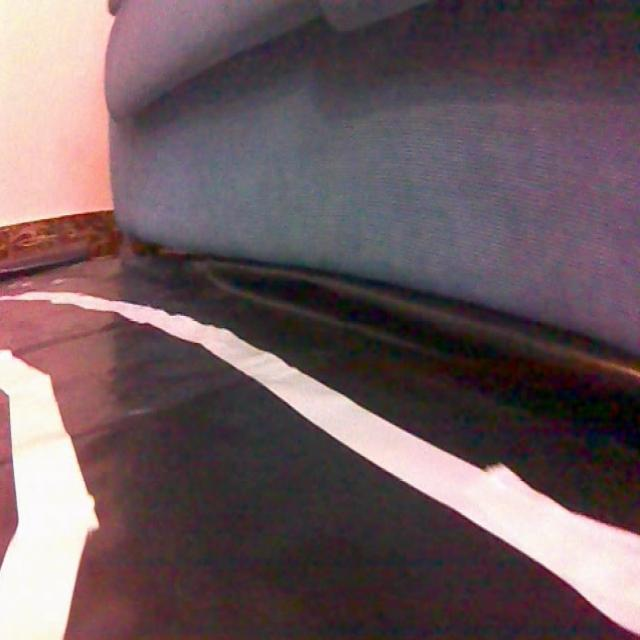LineaCarril: (0, 291, 639, 635), (0, 350, 99, 640)
